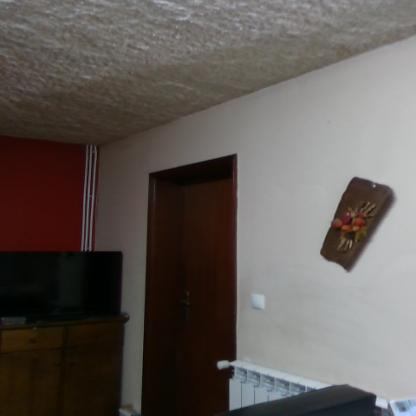closed: (140, 148, 247, 406)
